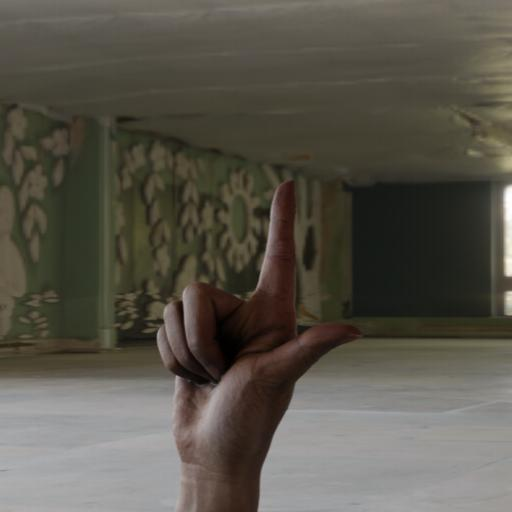L: (150, 170, 370, 489)
